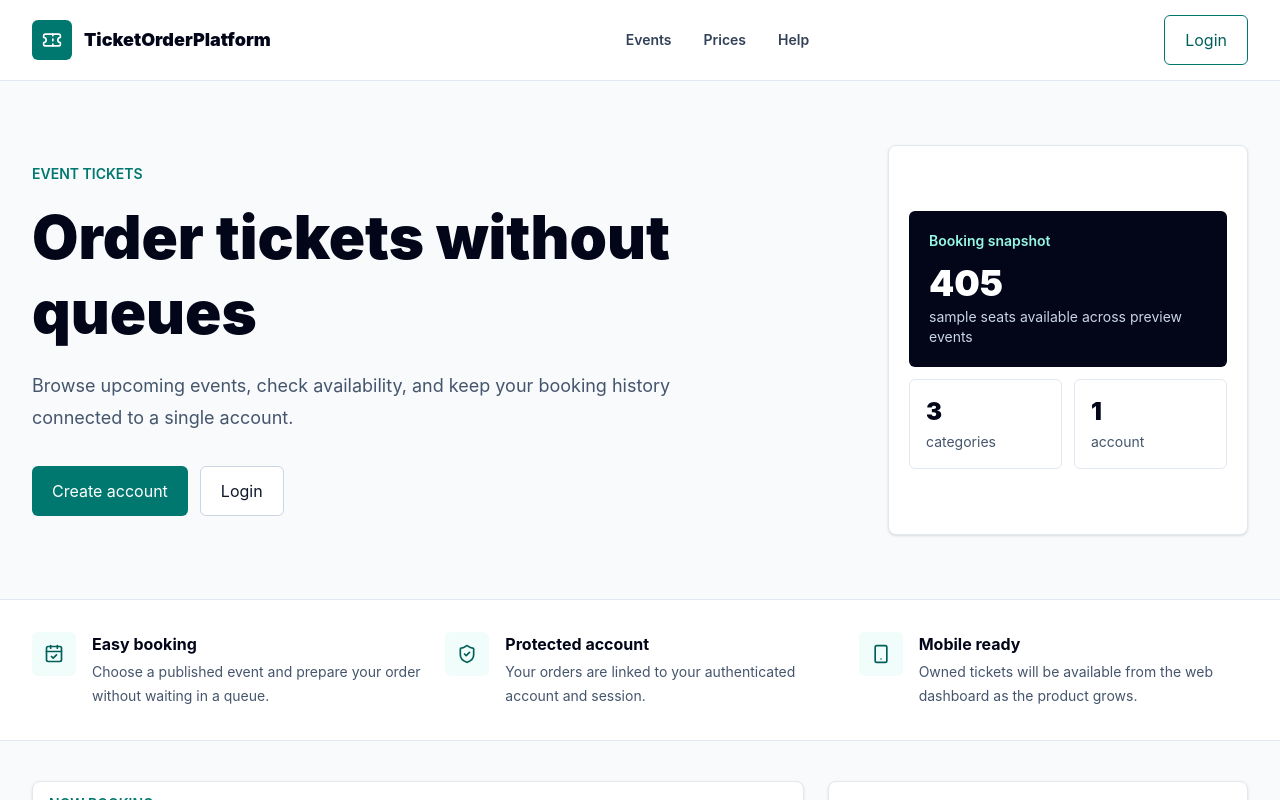
Test: App › shows an auth error without closing the panel
Step 1. Click the button "Login" in the row of "Help" → (1206, 40), box left=1164, top=15, right=1248, bottom=65
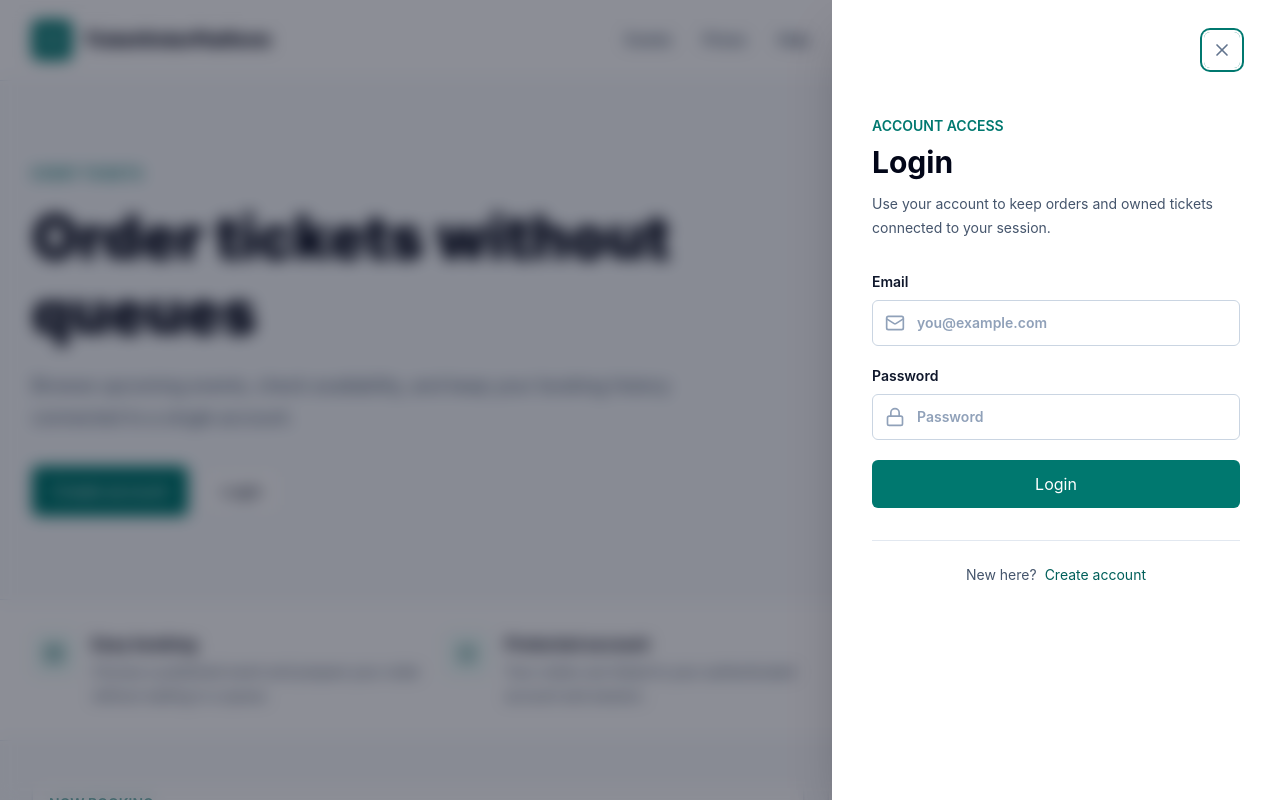
Step 2. Type "buyer@example.com" into the field labelled "Email" → (1072, 323), box left=917, top=313, right=1227, bottom=333
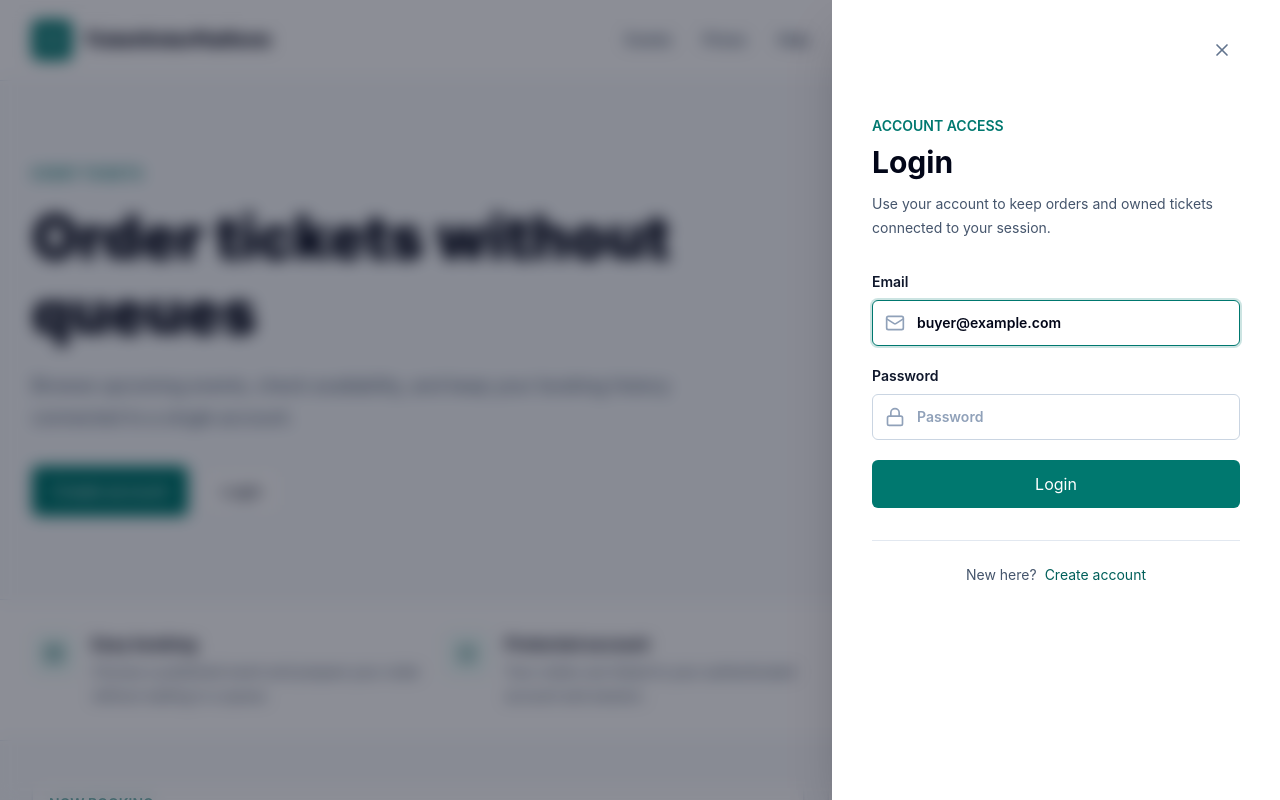
Step 3. Type "wrong-password" into the password field labelled "Password" → (1072, 417), box left=917, top=407, right=1227, bottom=427
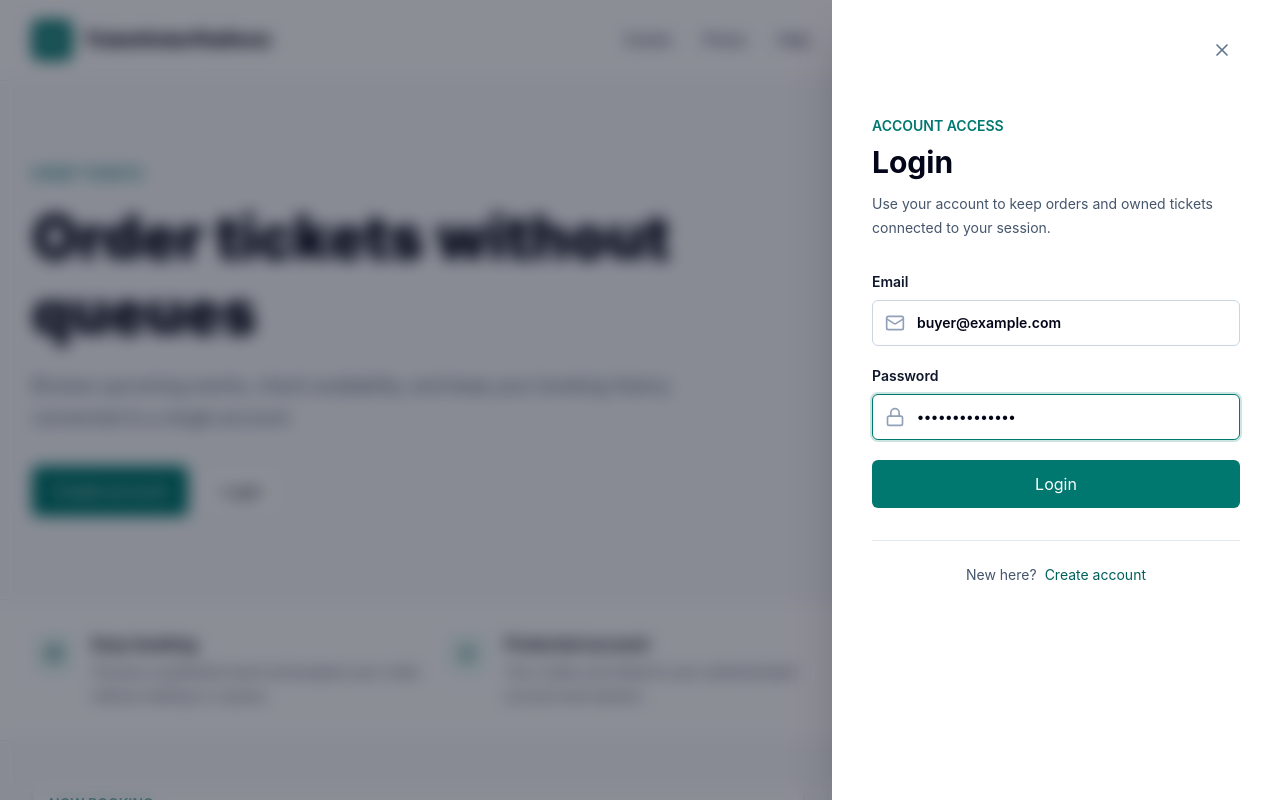
Step 4. Click the button "Login" → (1056, 484), box left=872, top=460, right=1240, bottom=508
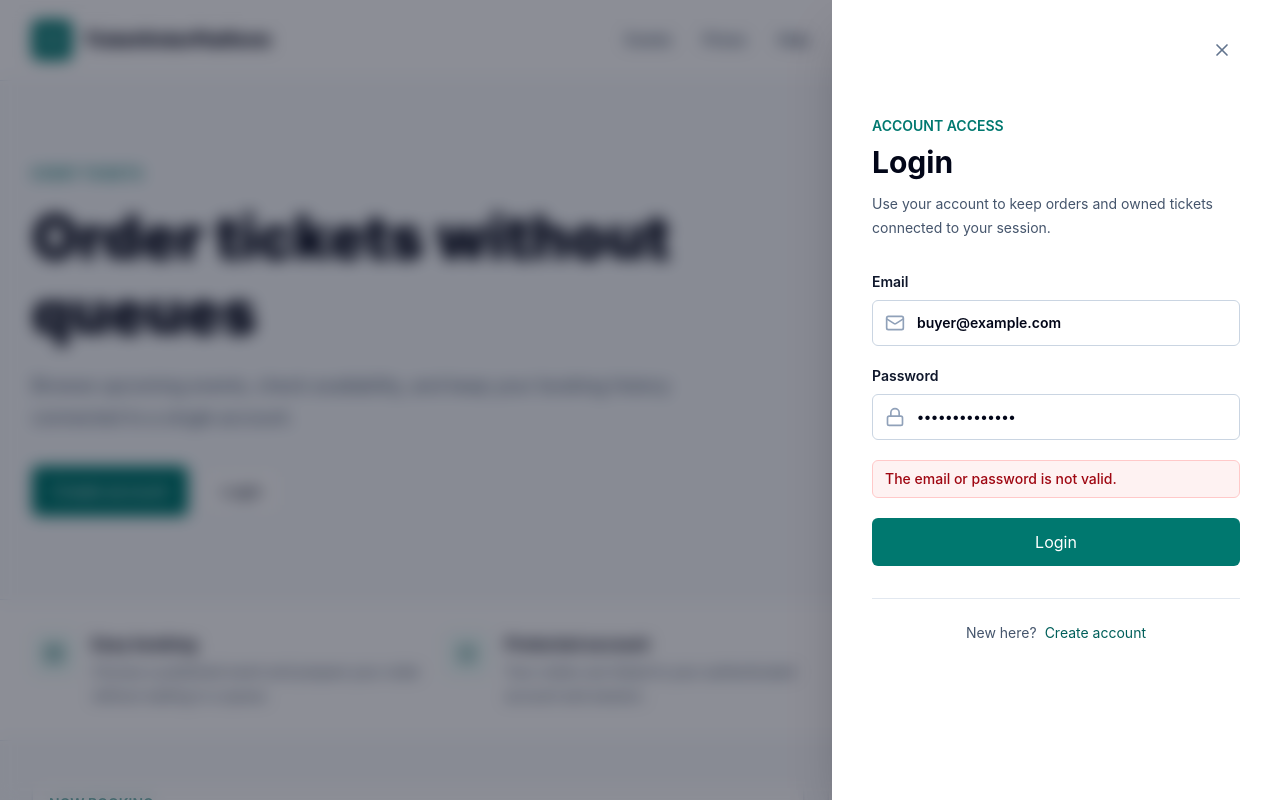
Expected: the dialog "Login" is shown, left=832, top=0, right=1279, bottom=799
Expected: the text "The email or password is not valid." is shown, left=872, top=460, right=1240, bottom=498
